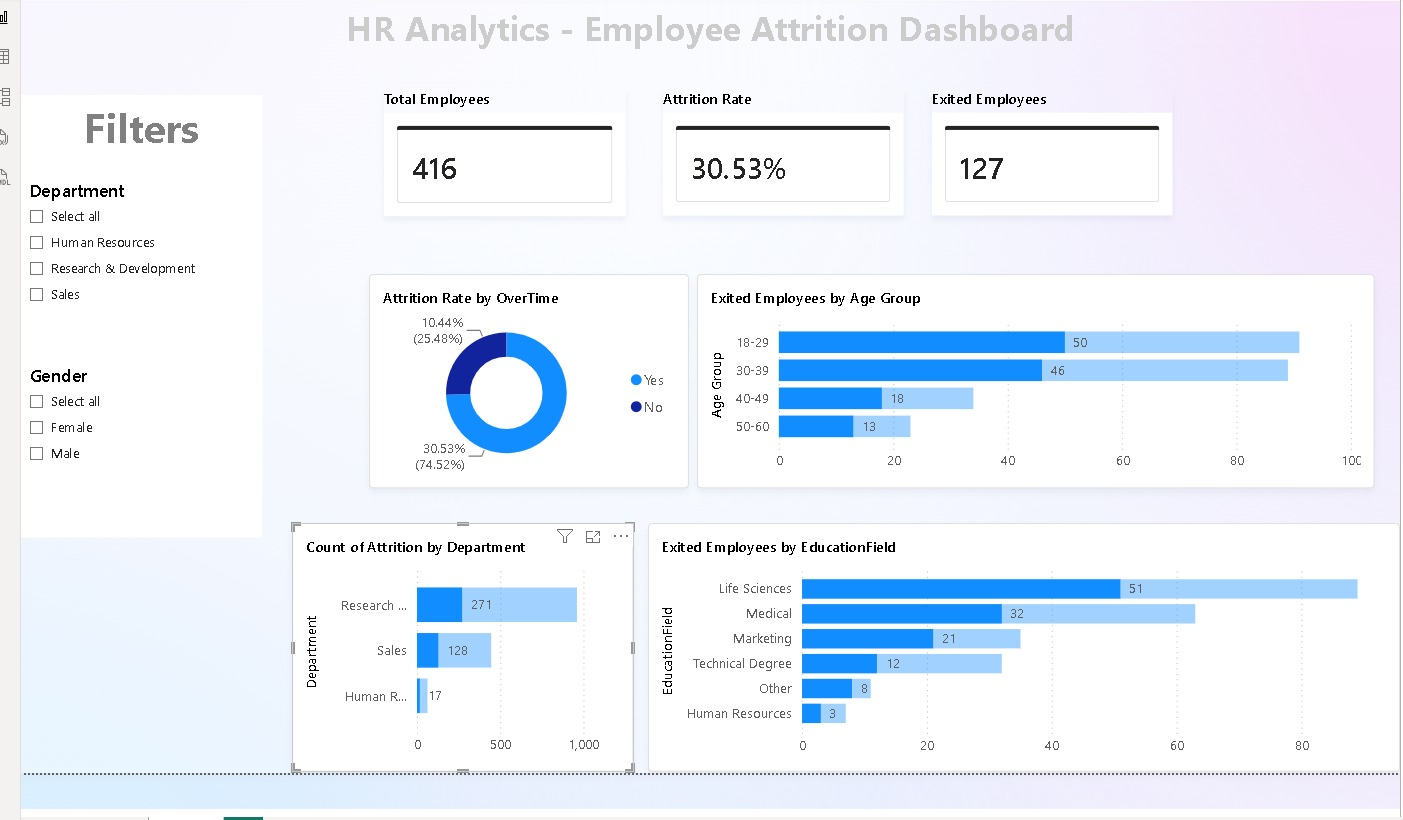

What the dashboard file says about the page in this screenshot:
{"tool":"powerbi","page":{"name":"Page 1","canvas":[1280,720],"ordinal":0},"visuals":[{"type":"barChart","fields":{"Category":["WA_Fn-UseC_-HR-Employee-Attrition.Department"],"Y":["CountNonNull(WA_Fn-UseC_-HR-Employee-Attrition.Attrition)"]},"box":[251.5,488.2,317.4,231.1],"z":0},{"type":"cardVisual","title":"Total Employees","fields":{"Data":["Count(WA_Fn-UseC_-HR-Employee-Attrition.EmployeeNumber)"]},"box":[336.8,85.6,224.9,118.1],"z":1000},{"type":"cardVisual","title":"Exited Employees","fields":{"Data":["WA_Fn-UseC_-HR-Employee-Attrition.Exited Employees"]},"box":[845.6,85.4,223.7,117.9],"z":2000},{"type":"cardVisual","title":"Attrition Rate","fields":{"Data":["WA_Fn-UseC_-HR-Employee-Attrition.Attrition Rate"]},"box":[595.9,85.4,223.7,117.9],"z":3000},{"type":"donutChart","fields":{"Category":["WA_Fn-UseC_-HR-Employee-Attrition.OverTime"],"Y":["WA_Fn-UseC_-HR-Employee-Attrition.Attrition Rate"]},"box":[323,257.1,297,198.6],"z":4000},{"type":"shape","box":[0,90.7,223.7,386.5],"z":6001},{"type":"slicer","fields":{"Values":["WA_Fn-UseC_-HR-Employee-Attrition.Gender"]},"box":[0,340.7,223.7,160.6],"z":6251},{"type":"slicer","fields":{"Values":["WA_Fn-UseC_-HR-Employee-Attrition.Department"]},"box":[0,168.9,223.7,171.7],"z":6501},{"type":"textbox","box":[0,0,1280,68.7],"z":6502},{"type":"barChart","fields":{"Category":["WA_Fn-UseC_-HR-Employee-Attrition.EducationField"],"Y":["WA_Fn-UseC_-HR-Employee-Attrition.Exited Employees"]},"box":[582.4,488.3,697.6,231.5],"z":6503},{"type":"clusteredBarChart","fields":{"Category":["WA_Fn-UseC_-HR-Employee-Attrition.Age Group"],"Y":["WA_Fn-UseC_-HR-Employee-Attrition.Exited Employees"]},"box":[627.8,256.8,628.9,198.7],"z":6504},{"type":"textbox","box":[0,91,223.7,78],"z":6505}]}

Visuals, with their boxes on the page's 1280x720 design canvas (x1, y1, x2, y2). These are canvas units, not pixel positions in the 1403x820 screenshot, which may show the page scaled, cropped or inside an application window:
barChart - WA_Fn-UseC_-HR-Employee-Attrition.Department x CountNonNull(WA_Fn-UseC_-HR-Employee-Attrition.Attrition): Rect(252, 488, 569, 719)
"Total Employees" cardVisual: Rect(337, 86, 562, 204)
"Exited Employees" cardVisual: Rect(846, 85, 1069, 203)
"Attrition Rate" cardVisual: Rect(596, 85, 820, 203)
donutChart - WA_Fn-UseC_-HR-Employee-Attrition.OverTime x WA_Fn-UseC_-HR-Employee-Attrition.Attrition Rate: Rect(323, 257, 620, 456)
shape: Rect(0, 91, 224, 477)
slicer - WA_Fn-UseC_-HR-Employee-Attrition.Gender: Rect(0, 341, 224, 501)
slicer - WA_Fn-UseC_-HR-Employee-Attrition.Department: Rect(0, 169, 224, 341)
textbox: Rect(0, 0, 1280, 69)
barChart - WA_Fn-UseC_-HR-Employee-Attrition.EducationField x WA_Fn-UseC_-HR-Employee-Attrition.Exited Employees: Rect(582, 488, 1280, 720)
clusteredBarChart - WA_Fn-UseC_-HR-Employee-Attrition.Age Group x WA_Fn-UseC_-HR-Employee-Attrition.Exited Employees: Rect(628, 257, 1257, 456)
textbox: Rect(0, 91, 224, 169)
